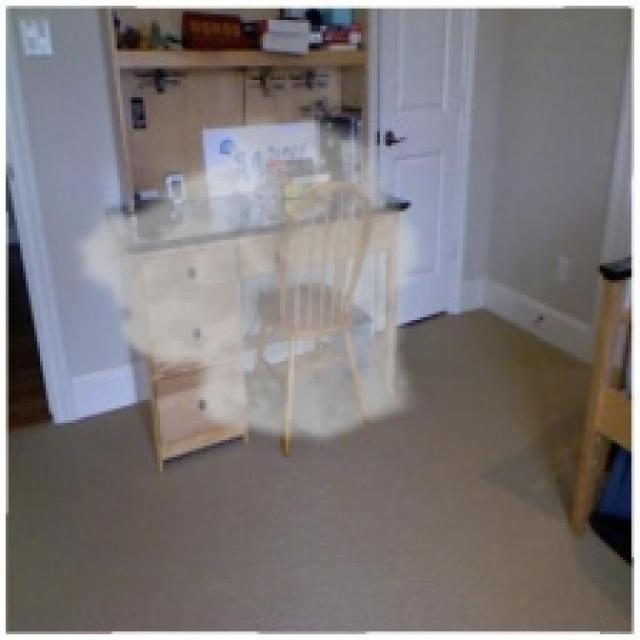smoke: (68, 106, 426, 448)
